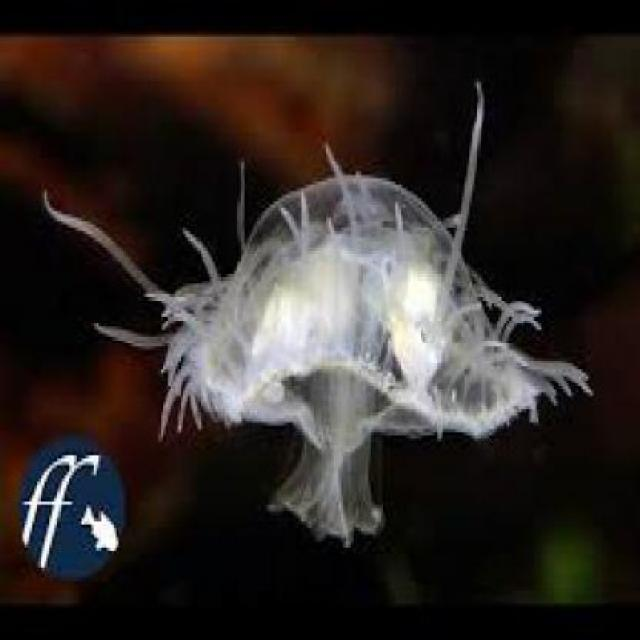Jellyfish: (39, 72, 593, 545)
